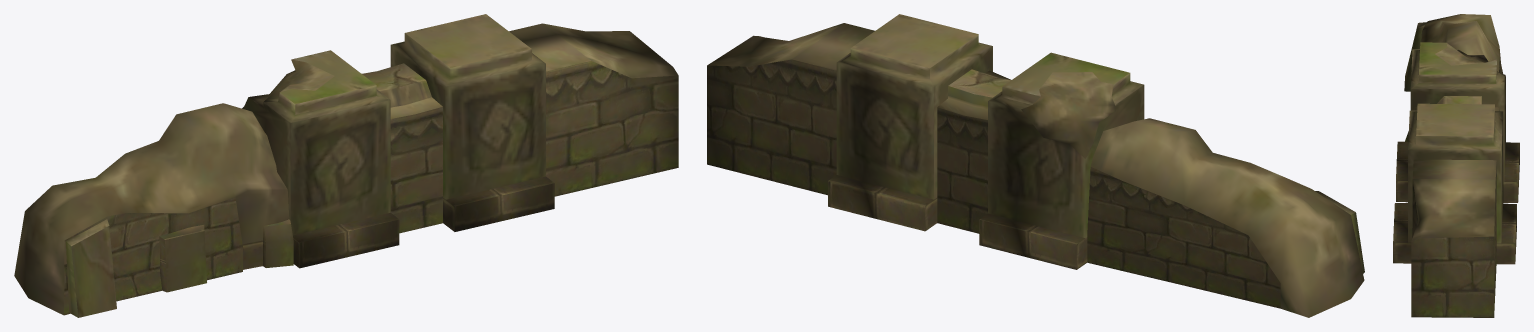
File: bridge_F3.fbx
3 renders of one model, left to right at view 1: azimuth 30°, elevation 25°; view 2: azimuth 150°, elevation 25°; view 3: azimuth 270°, elevation 25°, orthographic. The views are drawn at different scales.
Parts seen in each view (by area): view 1: bridge_F3; view 2: bridge_F3; view 3: bridge_F3.
Boxes of the visible parts, x1,y1,x2,y2 form: bridge_F3: (14, 14, 678, 317); bridge_F3: (707, 14, 1364, 317); bridge_F3: (1393, 14, 1519, 317).
Bounding box in the file's own units: 9.5 × 2.23 × 2.04.
